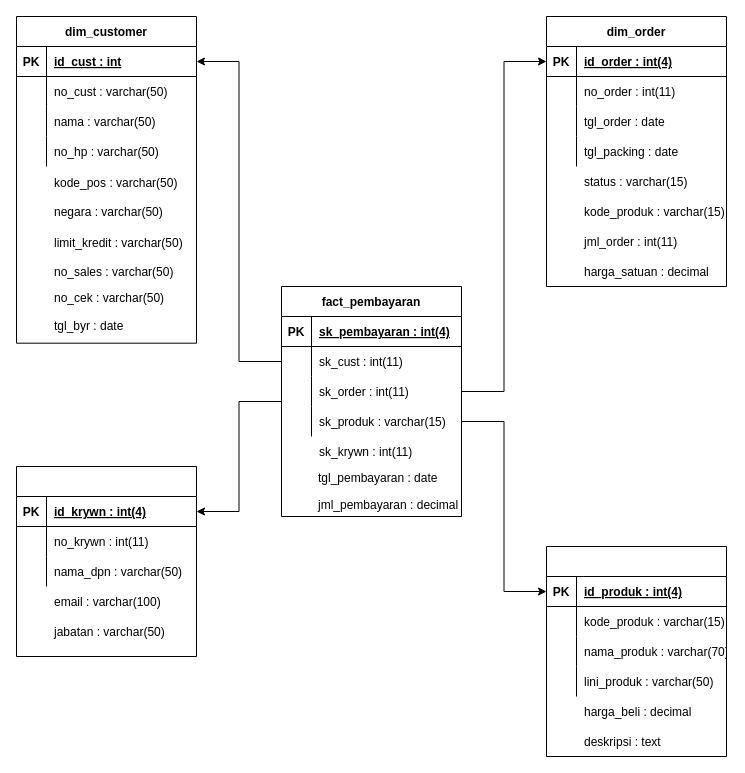
The diagram is 745 pixels wide and 773 high, and some of its shapes have lost their labels. The box of each missing label's shape, as (x1, y1, x2, y2) in pixels:
dim_karyawan: (16, 466, 196, 656)
dim_produk: (546, 546, 726, 756)
